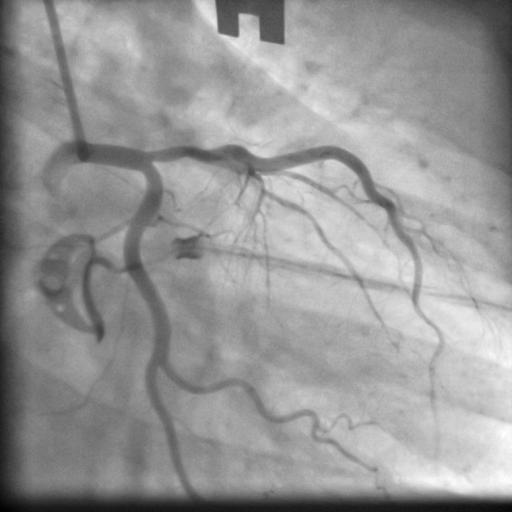Stenosis: (159, 143, 213, 162)
